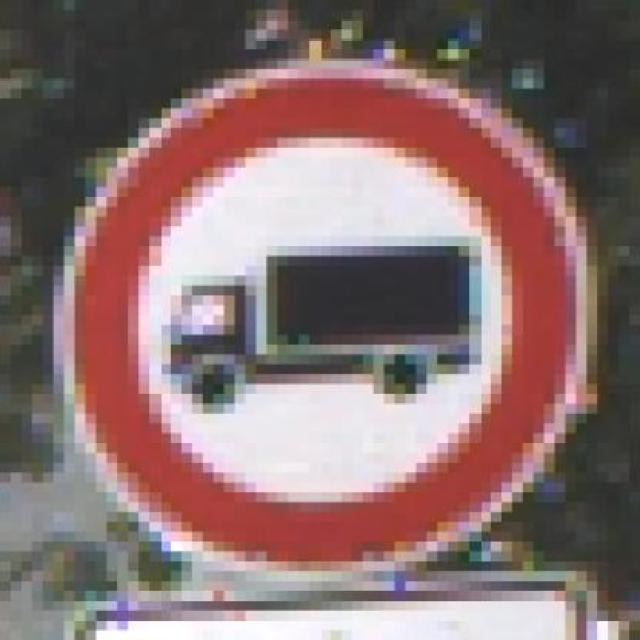Truck traffic is prohibited: (21, 39, 608, 581)
